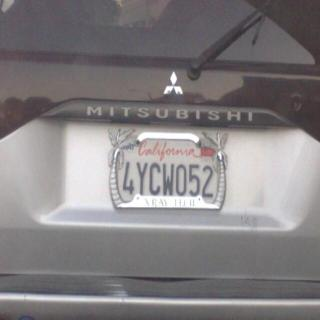license: (108, 130, 229, 210)
